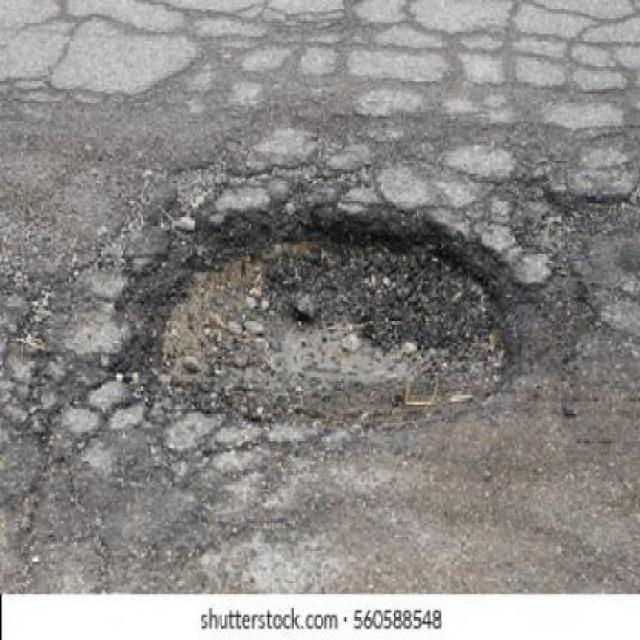pothole: (113, 199, 521, 433)
